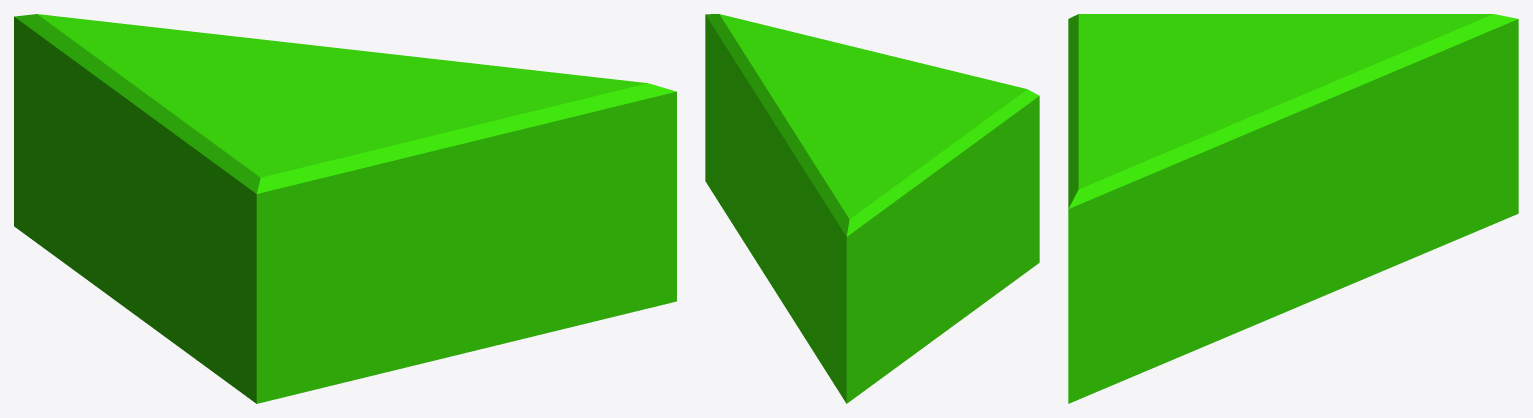
Rendered from triangle_2x1.fbx.
The picture shows the model from 3 angles, left to right: view 1: azimuth 30°, elevation 25°; view 2: azimuth 150°, elevation 25°; view 3: azimuth 270°, elevation 25°; orthographic projection. The views are drawn at different scales.
Visible parts, largest first — view 1: triangle_2x1; view 2: triangle_2x1; view 3: triangle_2x1.
Boxes of the visible parts, <box> form: triangle_2x1: <box>14,14,676,403</box>; triangle_2x1: <box>705,14,1039,403</box>; triangle_2x1: <box>1068,14,1518,403</box>.
Size of the model in its own units: 220 by 110 by 220.
